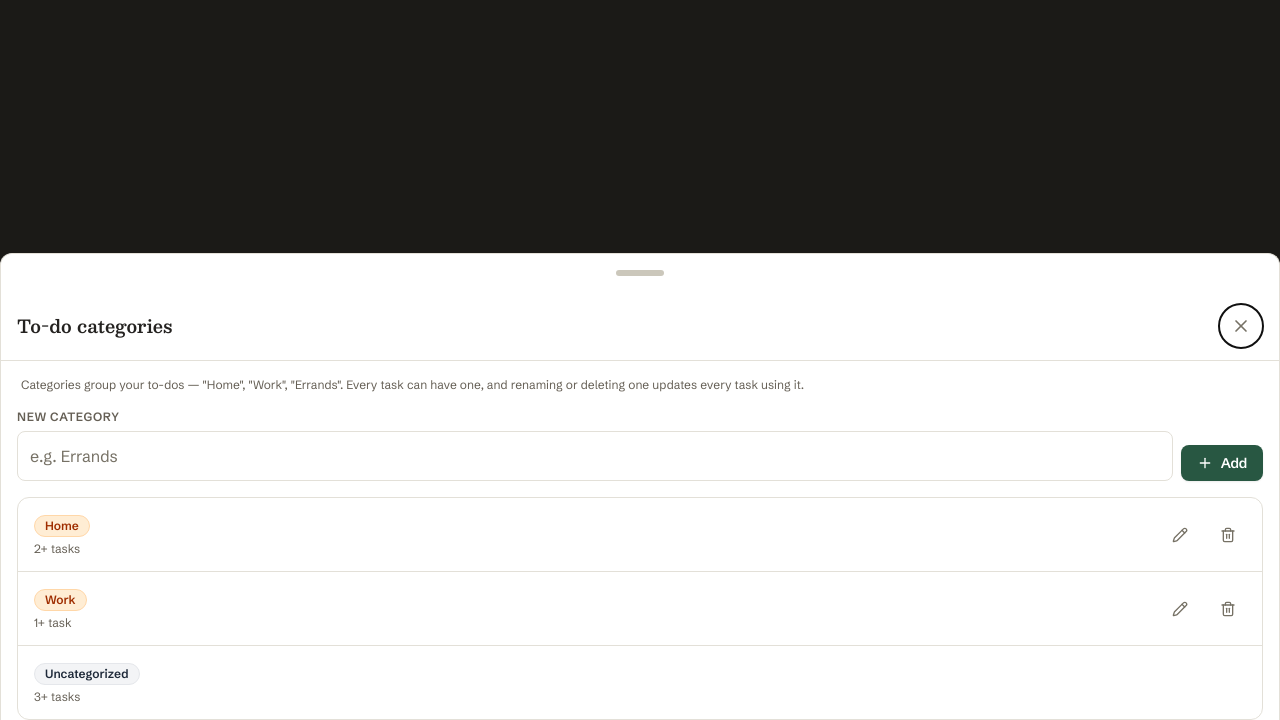
Test: TodoCategoryManagerDrawer › when the mutation rejects › a failed add reports the error in the field and keeps the typed name
The image size is (1280, 720).
Type "Errands" into the field labelled "New category".
click(595, 456); type("Errands")  # box top-left (17, 431), bottom-right (1173, 481)
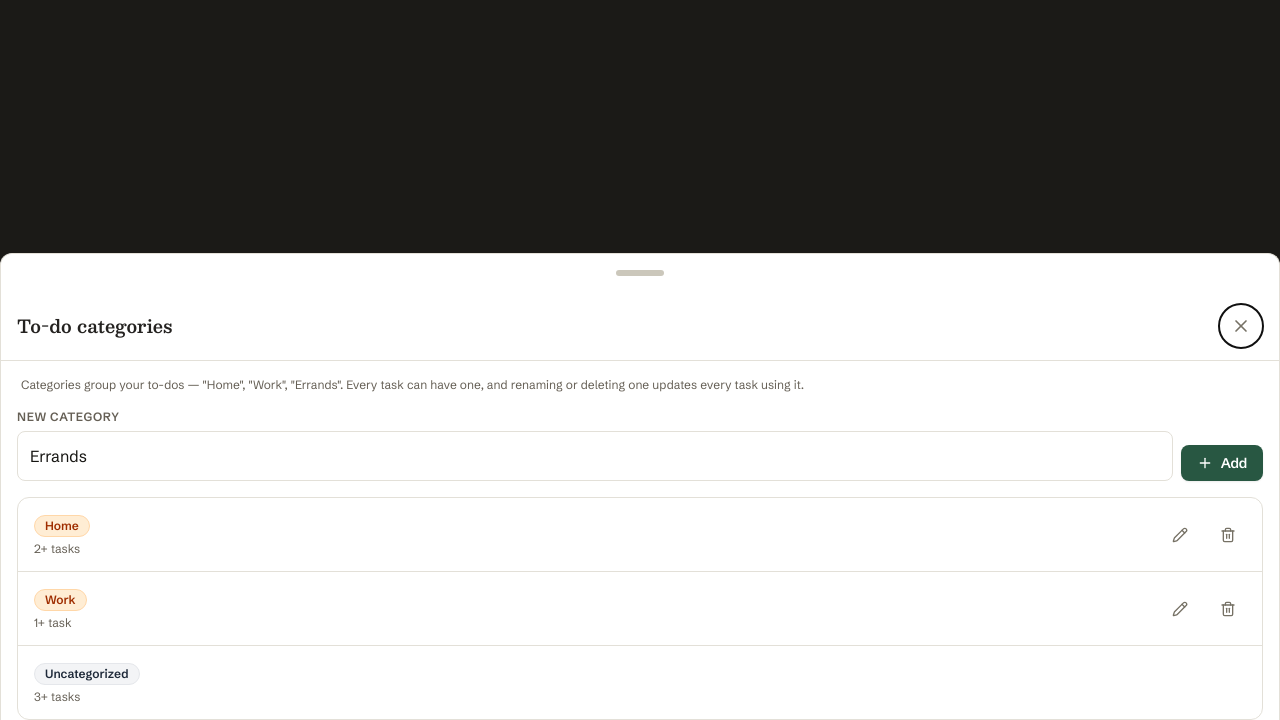
Click the button "Add".
click(1222, 463)  # box top-left (1181, 445), bottom-right (1263, 481)
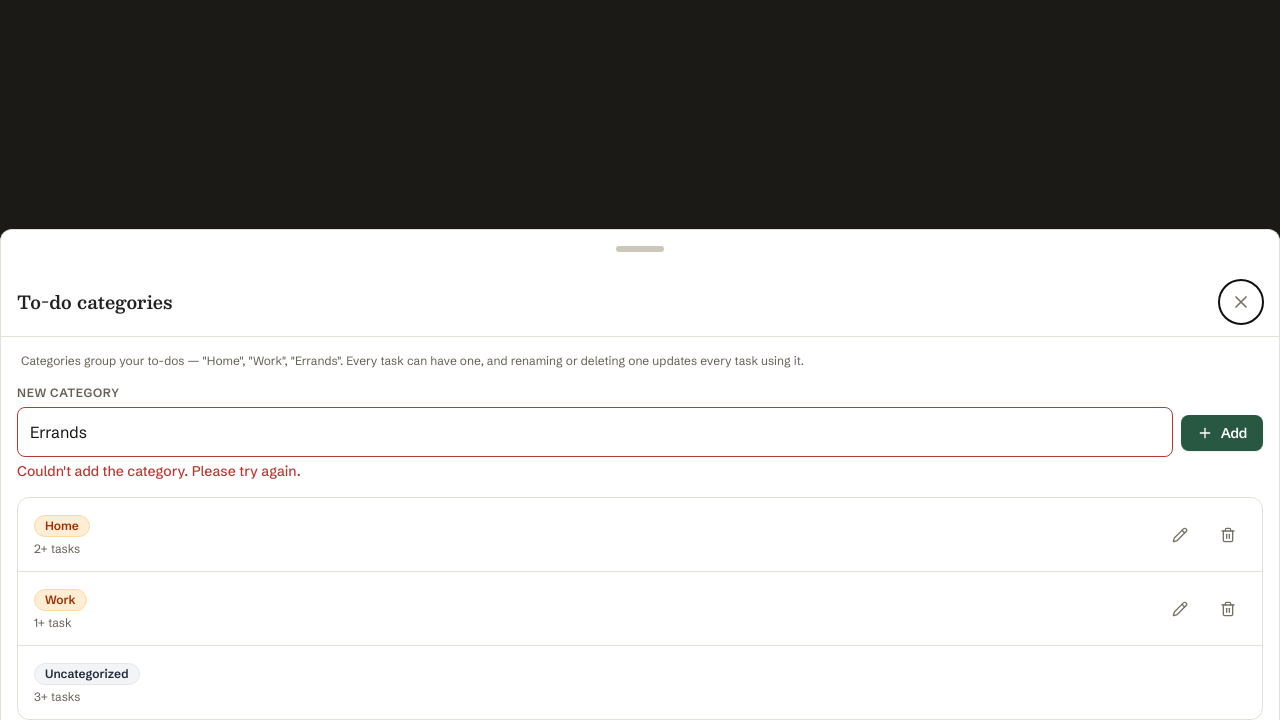
Expected: the text "Couldn't add the category. Please try again." is shown, top-left (17, 462), bottom-right (301, 480)
